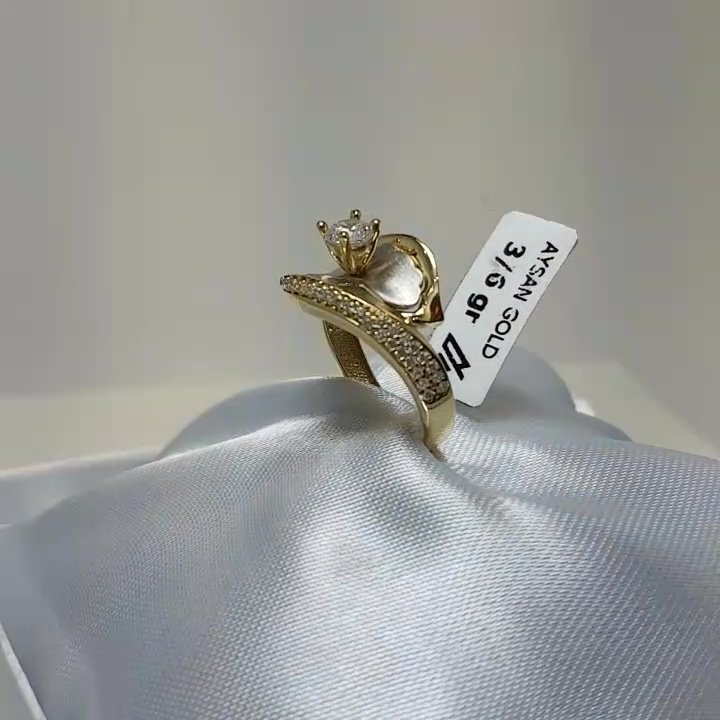Ring 6: (278, 189, 499, 470)
